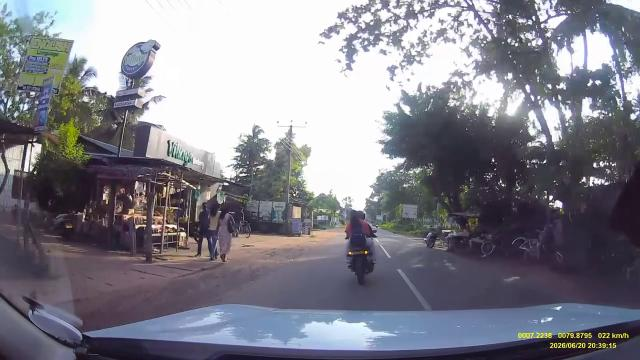no helmet: (347, 210, 359, 221)
